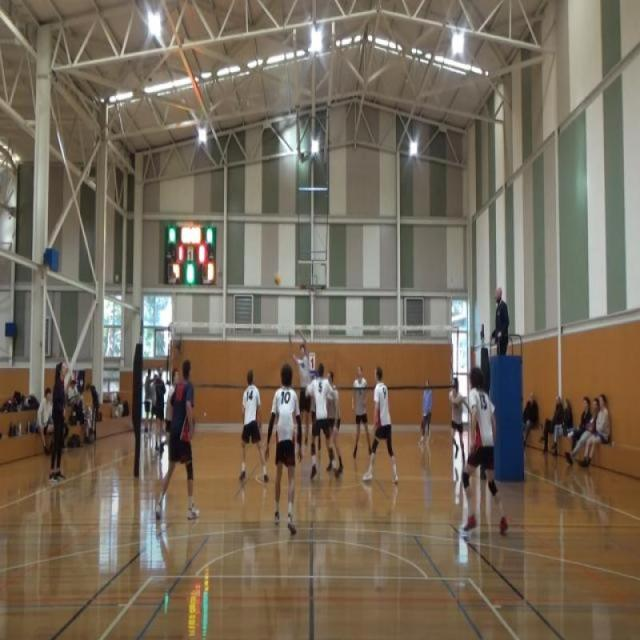volleyball: (272, 268, 283, 288)
